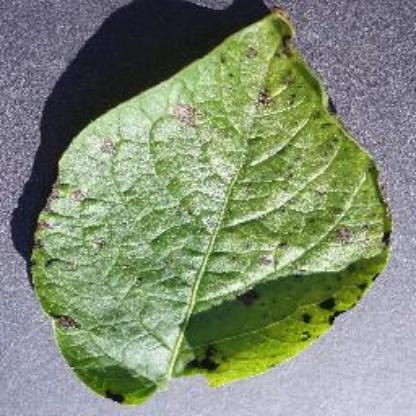Early-Blight: (23, 14, 398, 408)
